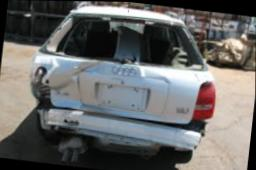Bumper: (38, 100, 206, 151)
Dickey: (32, 51, 213, 124)
Light: (29, 67, 55, 108)
Windshield: (42, 11, 207, 68)
